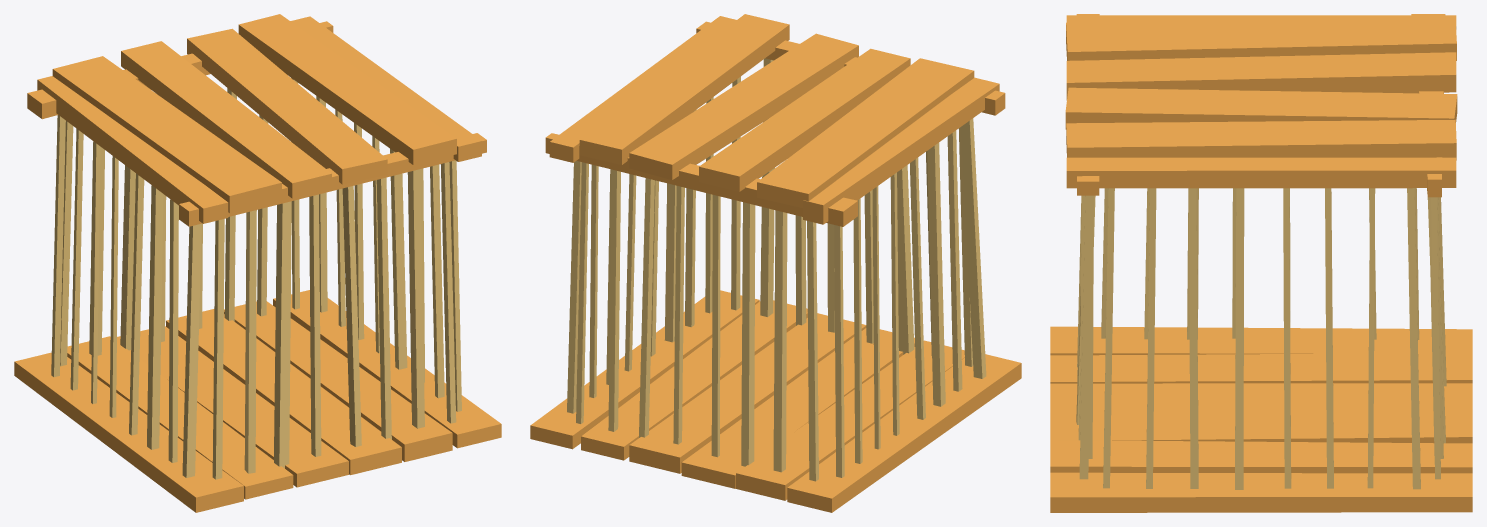
Rendered from jail.fbx.
3 views of the same model, side by side, from view 1: azimuth 30°, elevation 25°; view 2: azimuth 150°, elevation 25°; view 3: azimuth 270°, elevation 25° (orthographic). The views are drawn at different scales.
Parts seen in each view (by area): view 1: jail; view 2: jail; view 3: jail.
Boxes of the visible parts, x1,y1,x2,y2 form: jail: [14, 14, 501, 512]; jail: [530, 14, 1021, 512]; jail: [1050, 14, 1472, 512].
Size of the model in its own units: 118 by 113 by 124.
